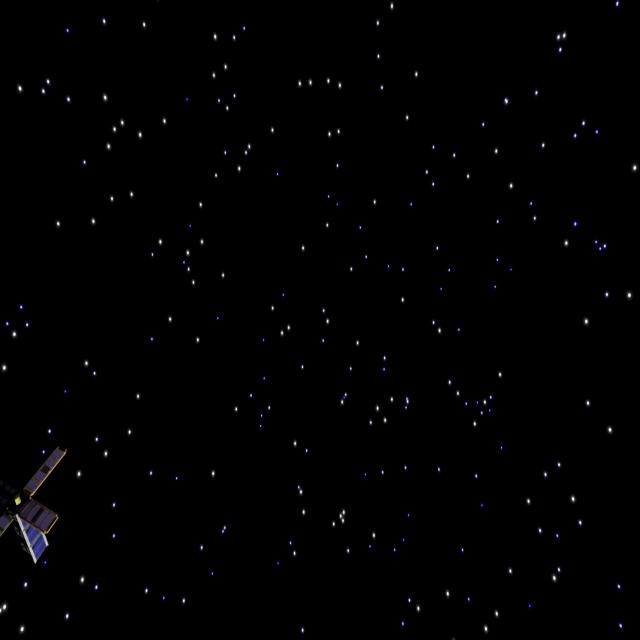medium_debris: (0, 440, 71, 569)
